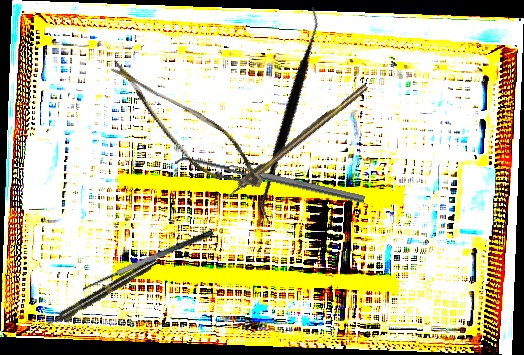Handpiece: (43, 256, 160, 330)
Hook Surgical: (215, 82, 370, 207)
Micro Scissor: (85, 58, 281, 199)
Spatula Surgical: (209, 6, 373, 225), (173, 152, 366, 211), (79, 228, 219, 300)
